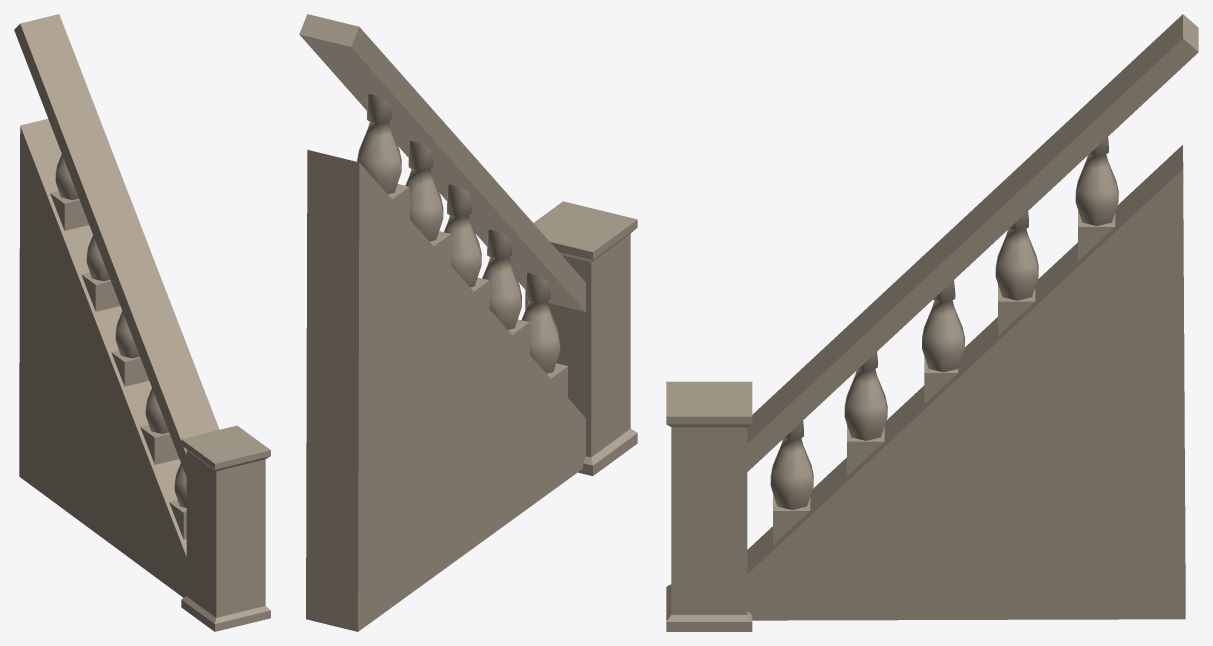
File: SM_Staircase_Railings.FBX
3 views of the same model, side by side, from view 1: azimuth 30°, elevation 25°; view 2: azimuth 150°, elevation 25°; view 3: azimuth 270°, elevation 25° (orthographic). The views are drawn at different scales.
Visible parts, largest first — view 1: SM_Staircase_Railings; view 2: SM_Staircase_Railings; view 3: SM_Staircase_Railings.
Boxes of the visible parts, <box> form: SM_Staircase_Railings: <box>14,14,270,631</box>; SM_Staircase_Railings: <box>299,14,637,631</box>; SM_Staircase_Railings: <box>666,14,1198,631</box>.
Bounding box in the file's own units: 22.71 × 178 × 146.
